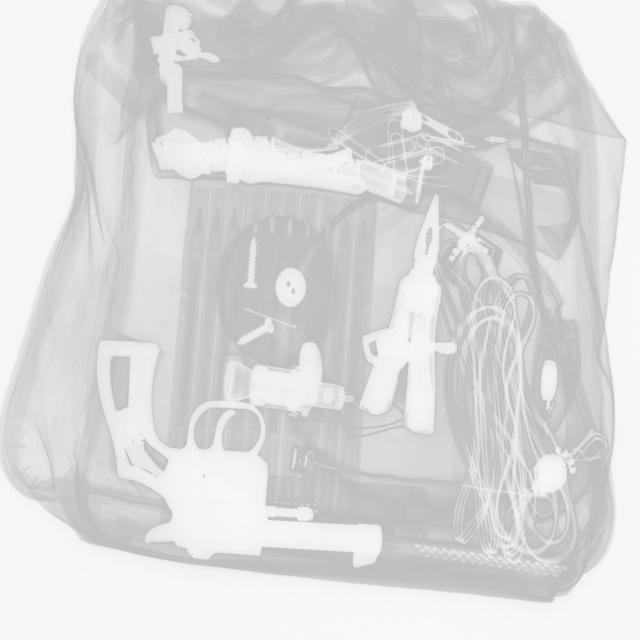pistol: (96, 335, 387, 570)
